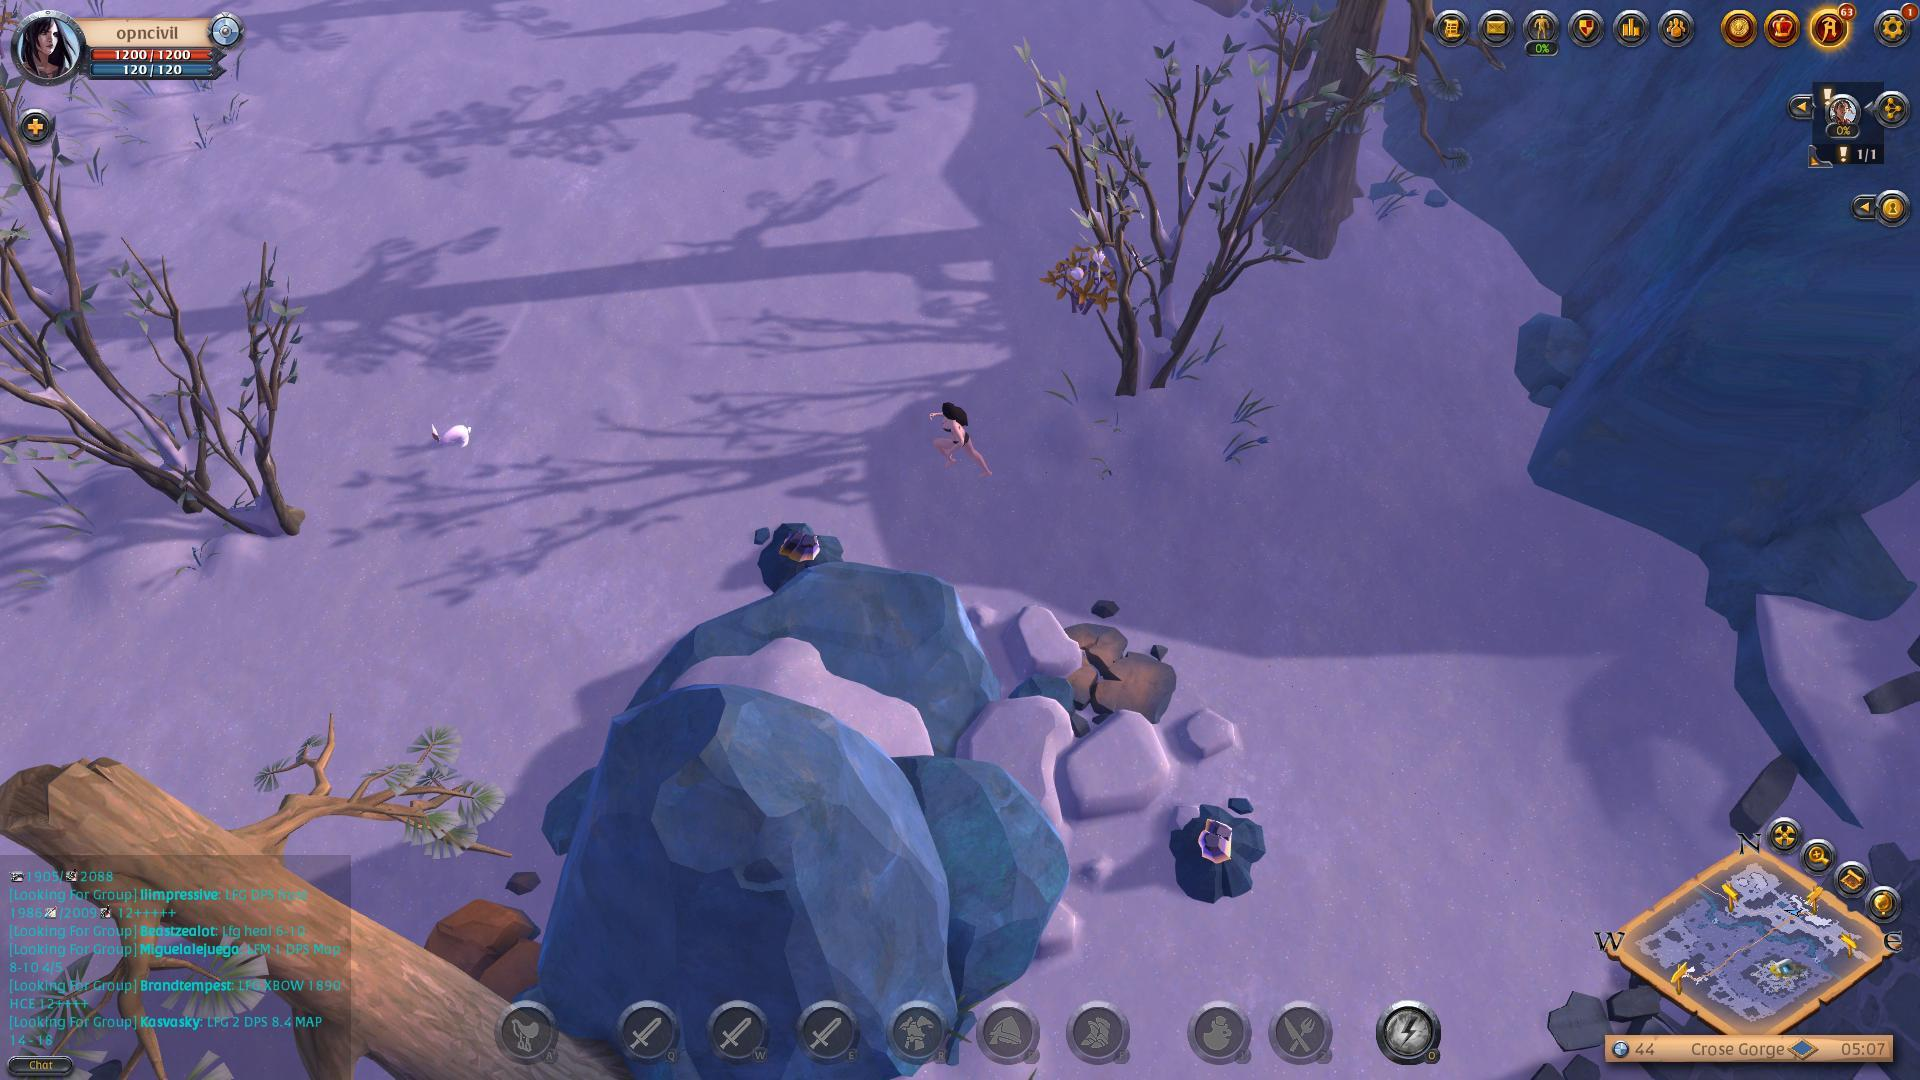copper_ore: (1166, 789, 1283, 909), (749, 496, 851, 613)
cotton: (1039, 239, 1137, 326)
limestone: (417, 890, 560, 1010)
